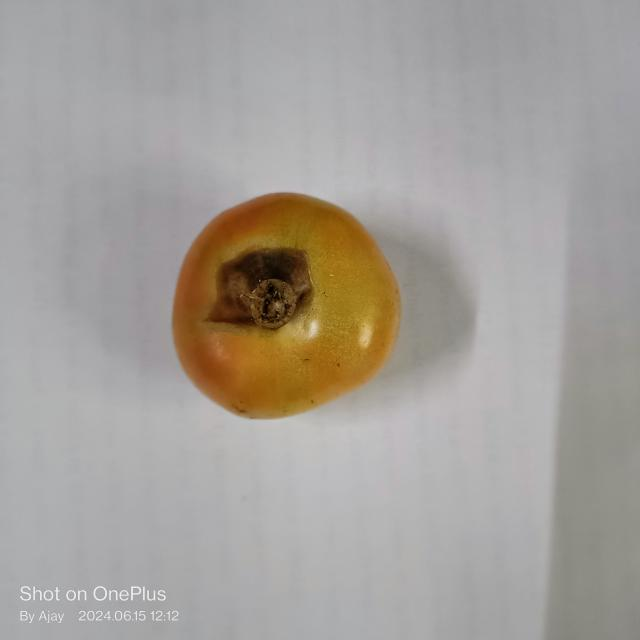Anthrocnose: (204, 245, 313, 332)
